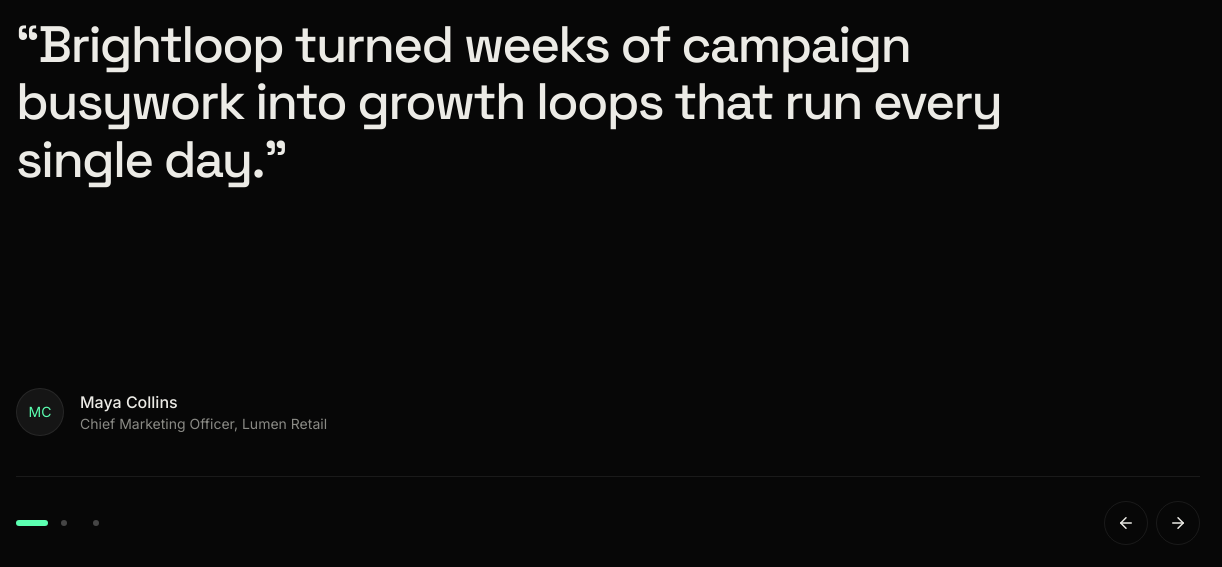
Testimonials › wraps around with next and previous
Click the button named "Previous testimonial" at (1126,523), box top-left (1104, 501), bottom-right (1148, 545)
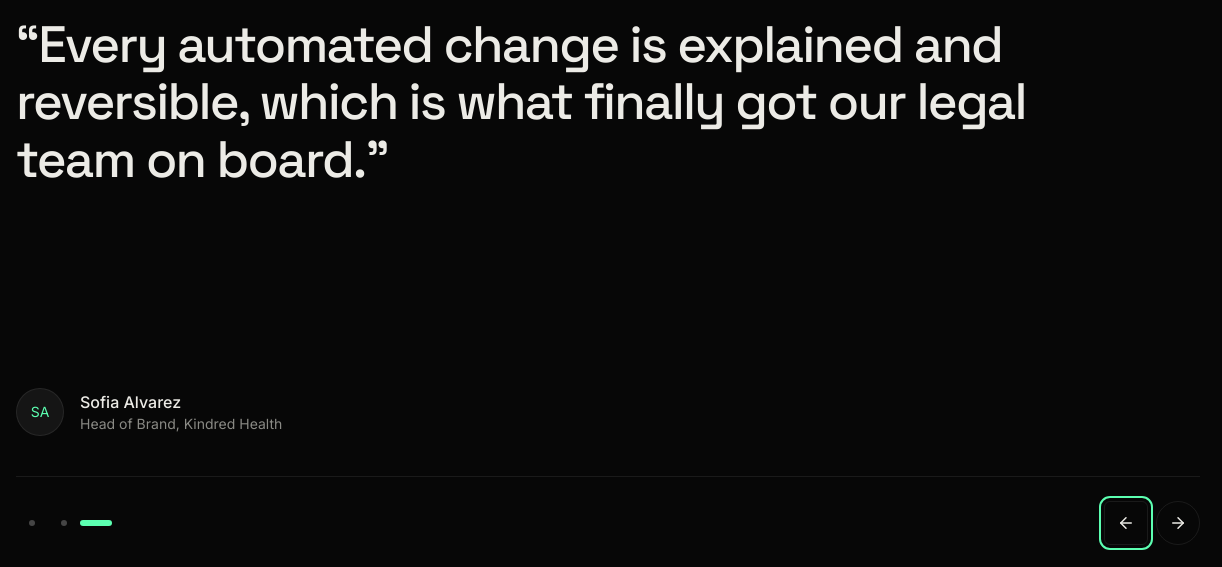
expect the element named "3 of 3" is shown: met
Click the button named "Next testimonial" at (1178,523), box top-left (1156, 501), bottom-right (1200, 545)
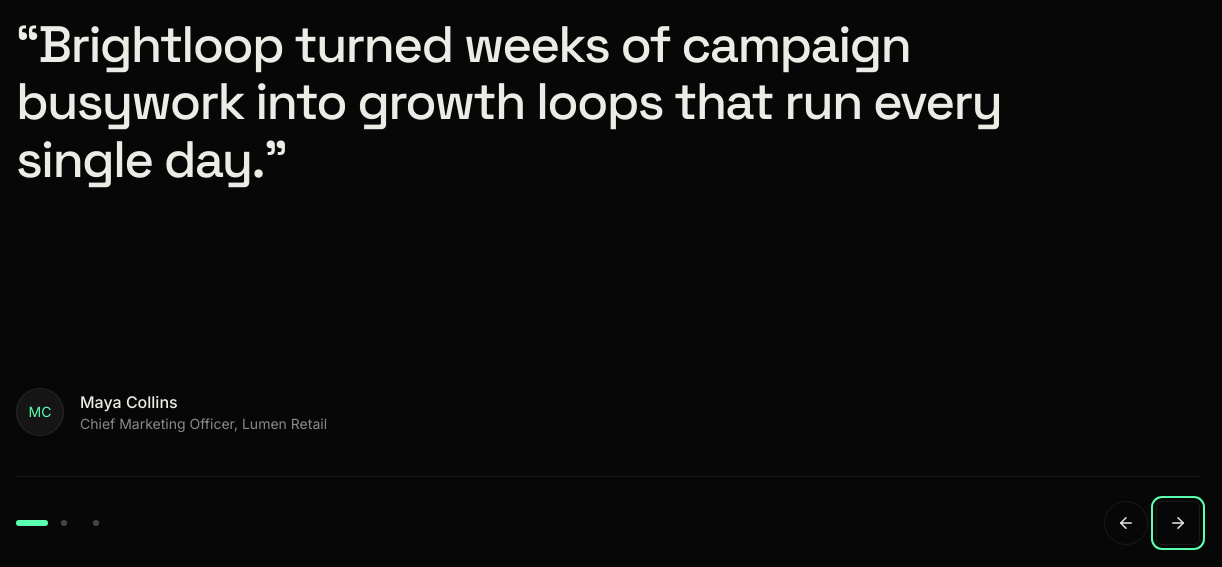
expect the element named "1 of 3" is shown: met, box top-left (16, 16), bottom-right (1001, 436)
